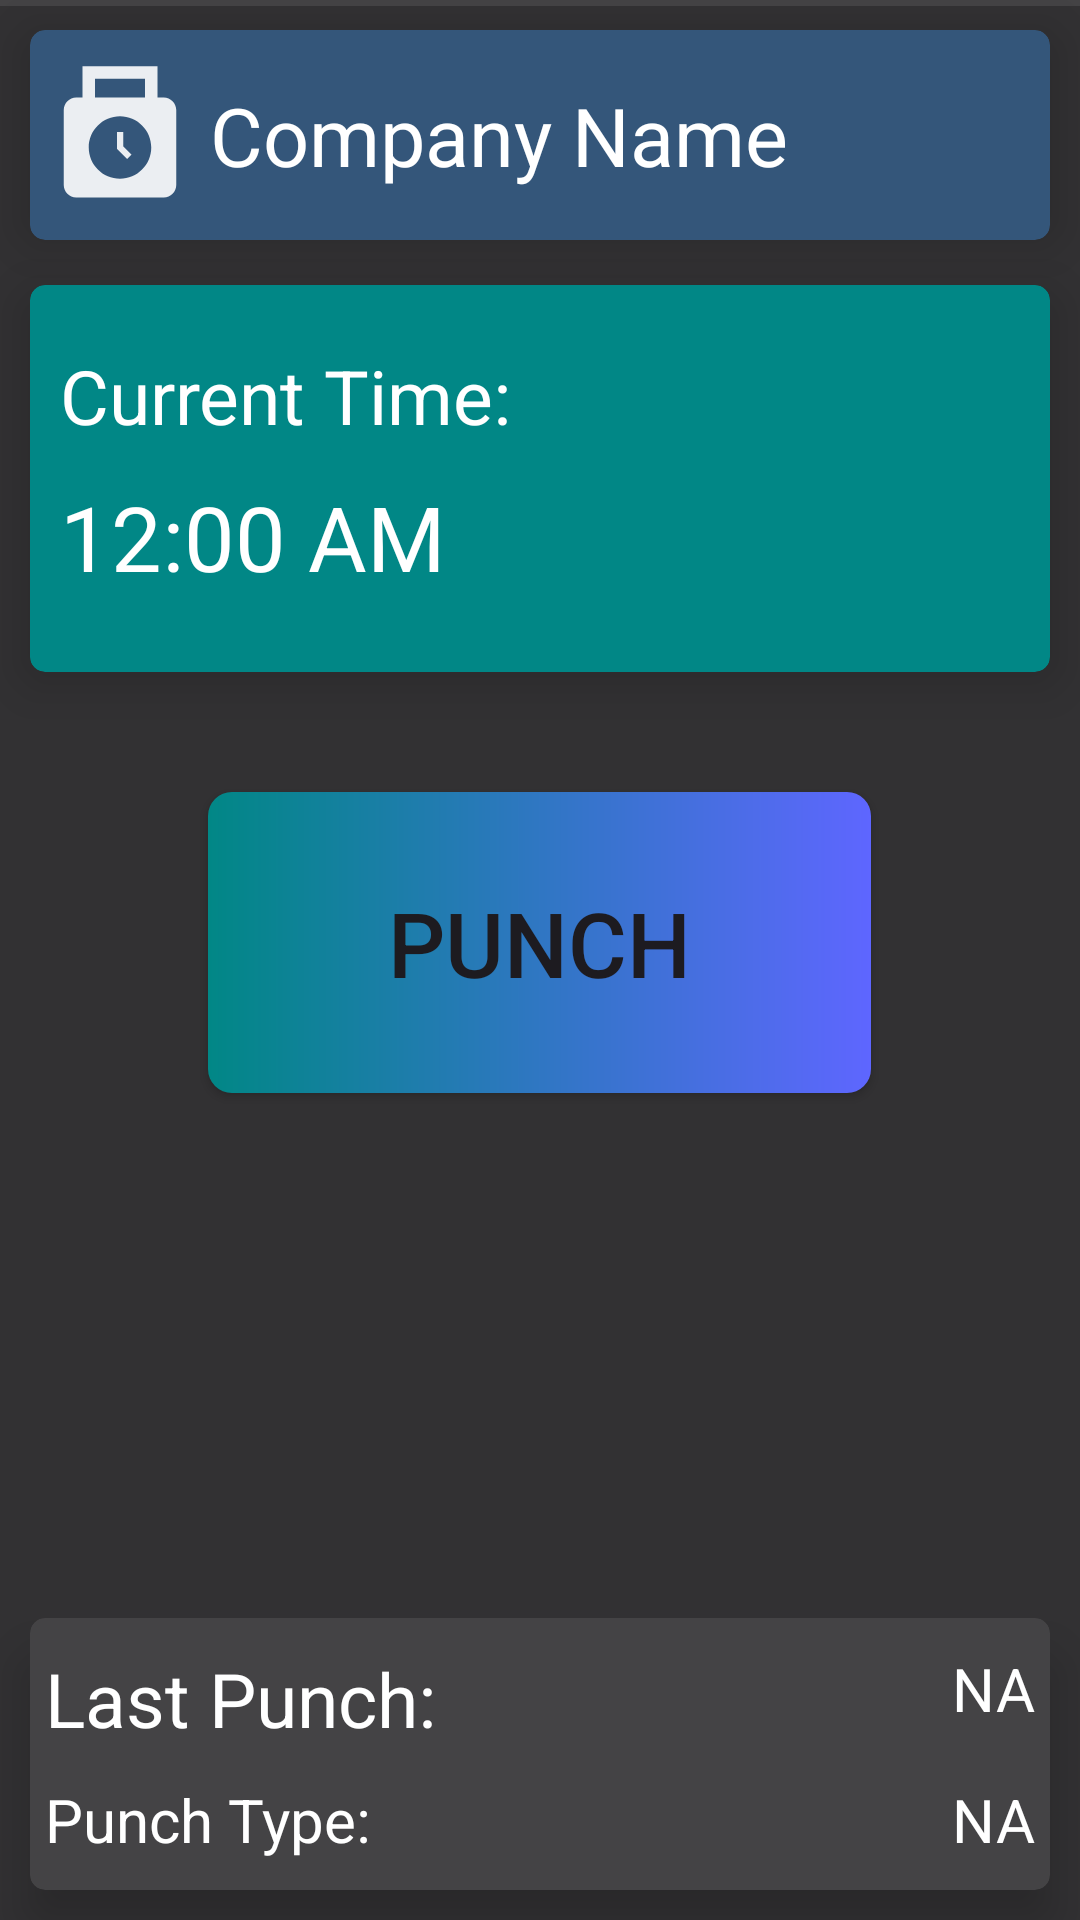

Screen size 1080×1920. Icon name, then its center in pixels as (x=x, y=y):
punch clock: (x=120, y=132)
